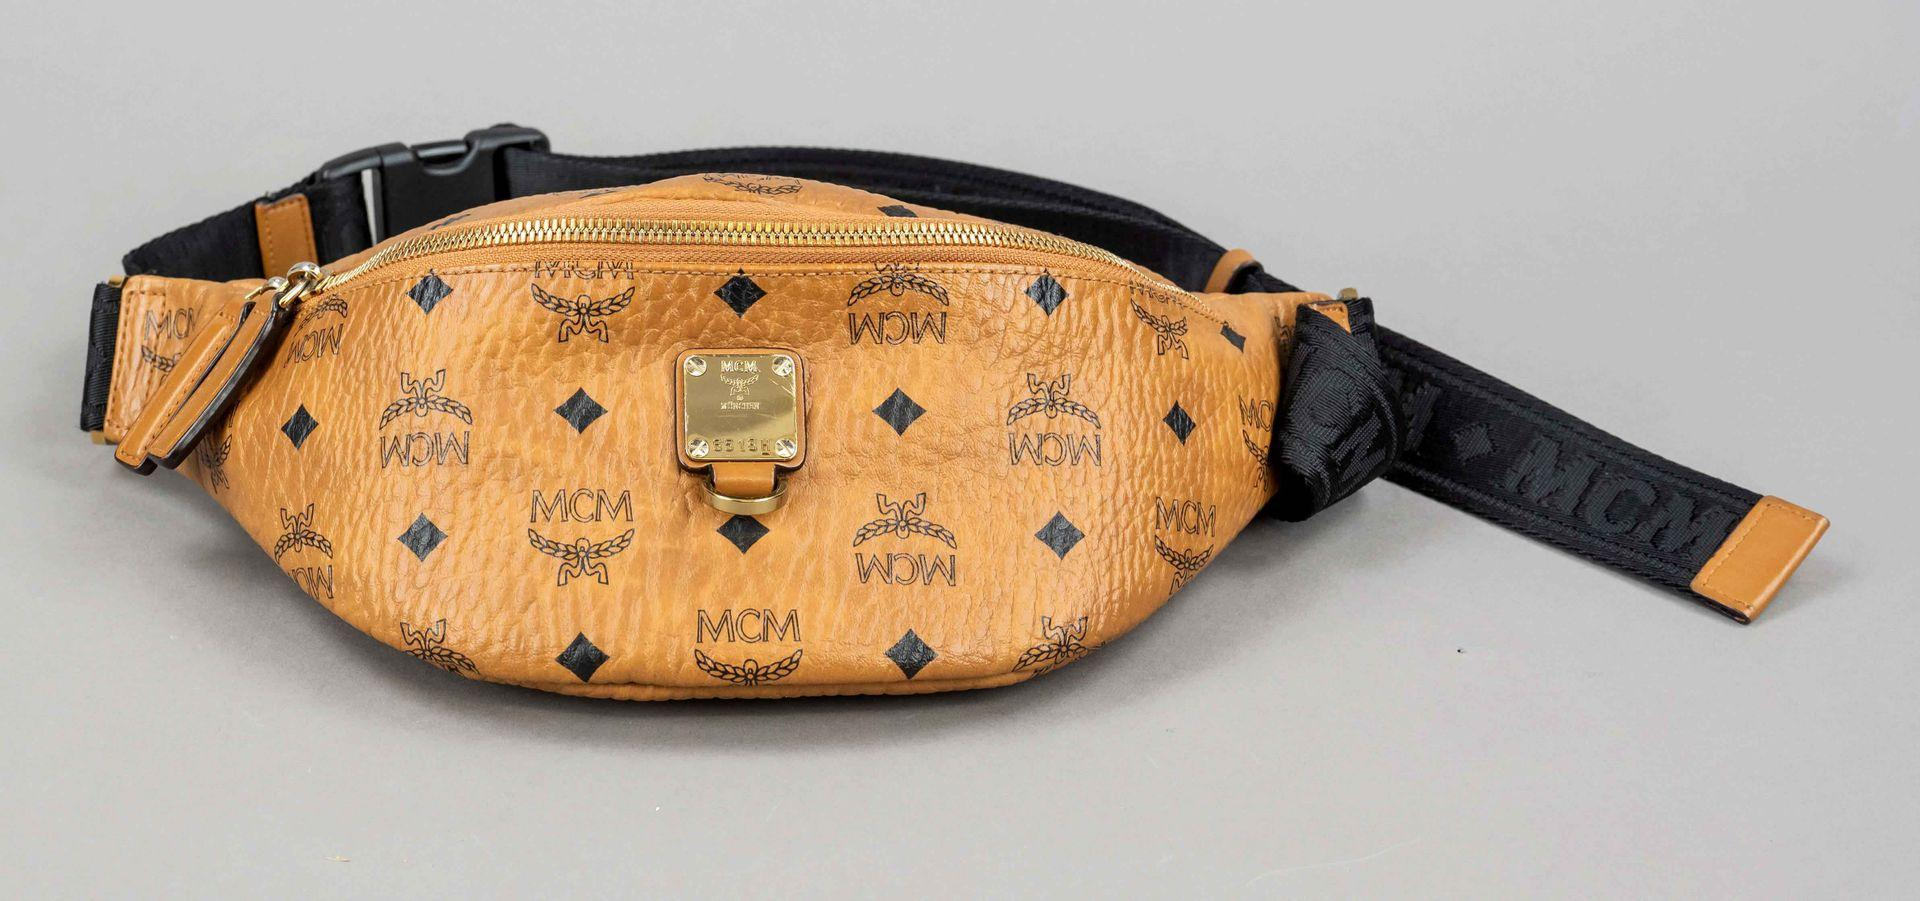MCM: (88, 143, 1363, 709)
